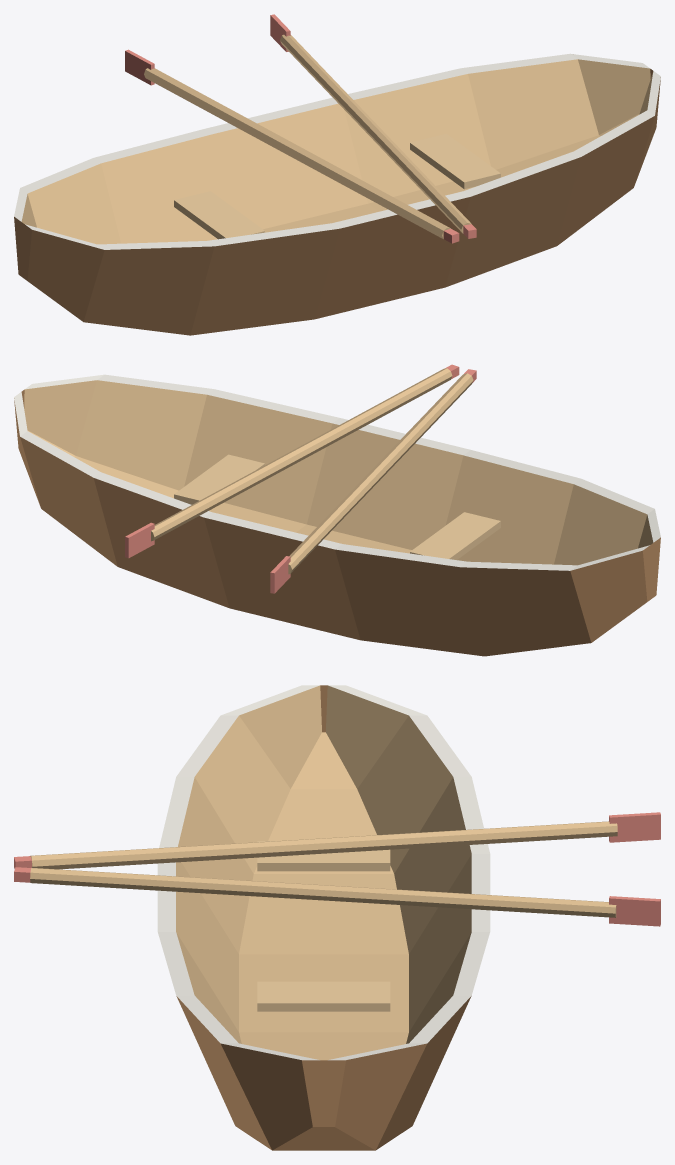
File: th3_ruderboot.glb
3 renders of one model, top to bottom at view 1: azimuth 30°, elevation 25°; view 2: azimuth 150°, elevation 25°; view 3: azimuth 270°, elevation 25°, orthographic. The views are drawn at different scales.
Parts seen in each view (by area): view 1: Ruderboot; view 2: Ruderboot; view 3: Ruderboot.
Boxes of the visible parts, bbox=[...] form: Ruderboot: bbox=[14, 14, 660, 335]; Ruderboot: bbox=[14, 364, 660, 656]; Ruderboot: bbox=[14, 685, 660, 1150].
Bounding box in the file's own units: 2.4 × 0.5075 × 1.75.
